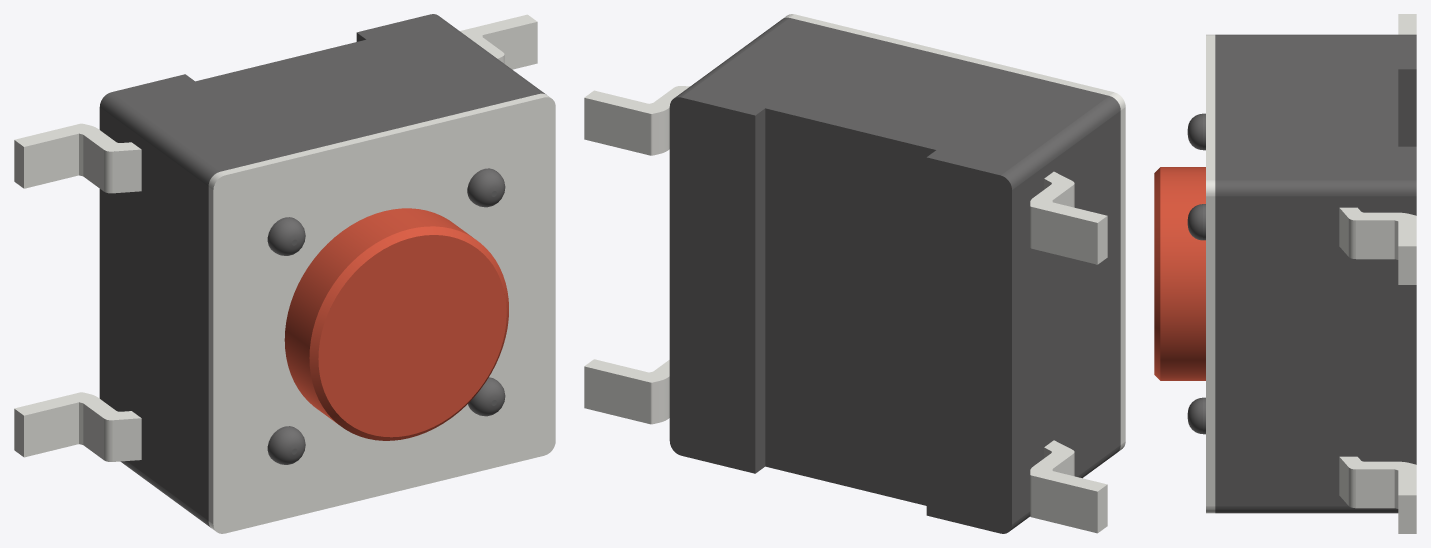
The model's file is SW_SPST_PTS645.glb.
3 renders of one model, left to right at view 1: azimuth 30°, elevation 25°; view 2: azimuth 150°, elevation 25°; view 3: azimuth 270°, elevation 25°, orthographic. The views are drawn at different scales.
Parts seen in each view (by area): view 1: Shape_IndexedFaceSet.004, Shape_IndexedFaceSet.023, Shape_IndexedFaceSet.001, Shape_IndexedFaceSet.049, Shape_IndexedFaceSet.018, Shape_IndexedFaceSet.028, Shape_IndexedFaceSet.006, Shape_IndexedFaceSet.089, Shape_IndexedFaceSet.078, Shape_IndexedFaceSet.013, Shape_IndexedFaceSet, Shape_IndexedFaceSet.057 (+11 smaller); view 2: Shape_IndexedFaceSet.011, Shape_IndexedFaceSet.001, Shape_IndexedFaceSet.007, Shape_IndexedFaceSet.008, Shape_IndexedFaceSet.023, Shape_IndexedFaceSet.009, Shape_IndexedFaceSet.091, Shape_IndexedFaceSet.059, Shape_IndexedFaceSet.069, Shape_IndexedFaceSet.080, Shape_IndexedFaceSet.006, Shape_IndexedFaceSet.013 (+5 smaller); view 3: Shape_IndexedFaceSet.022, Shape_IndexedFaceSet.001, Shape_IndexedFaceSet.018, Shape_IndexedFaceSet.005, Shape_IndexedFaceSet.012, Shape_IndexedFaceSet.054, Shape_IndexedFaceSet.064, Shape_IndexedFaceSet.010, Shape_IndexedFaceSet, Shape_IndexedFaceSet.028, Shape_IndexedFaceSet.024, Shape_IndexedFaceSet.035 (+10 smaller).
Boxes of the visible parts, box(x1,y1,x2,y2) form: Shape_IndexedFaceSet.004: box(213, 97, 555, 533); Shape_IndexedFaceSet.023: box(99, 107, 208, 520); Shape_IndexedFaceSet.001: box(111, 14, 538, 171); Shape_IndexedFaceSet.049: box(318, 235, 506, 437); Shape_IndexedFaceSet.018: box(284, 208, 472, 423); Shape_IndexedFaceSet.028: box(309, 226, 508, 440); Shape_IndexedFaceSet.006: box(100, 92, 219, 186); Shape_IndexedFaceSet.089: box(24, 402, 78, 457); Shape_IndexedFaceSet.078: box(24, 133, 78, 188); Shape_IndexedFaceSet.013: box(208, 187, 213, 523); Shape_IndexedFaceSet: box(220, 94, 543, 175); Shape_IndexedFaceSet.057: box(482, 22, 537, 69); Shape_IndexedFaceSet.011: box(765, 108, 935, 505); Shape_IndexedFaceSet.001: box(681, 18, 1108, 175); Shape_IndexedFaceSet.007: box(669, 97, 755, 473); Shape_IndexedFaceSet.008: box(926, 157, 1011, 533); Shape_IndexedFaceSet.023: box(1012, 111, 1120, 524); Shape_IndexedFaceSet.009: box(755, 108, 765, 473); Shape_IndexedFaceSet.091: box(1031, 475, 1097, 533); Shape_IndexedFaceSet.059: box(584, 98, 650, 155); Shape_IndexedFaceSet.069: box(584, 366, 650, 424); Shape_IndexedFaceSet.080: box(1031, 207, 1097, 264); Shape_IndexedFaceSet.006: box(1001, 96, 1120, 189); Shape_IndexedFaceSet.013: box(1120, 107, 1125, 444); Shape_IndexedFaceSet.022: box(1215, 196, 1416, 506); Shape_IndexedFaceSet.001: box(1215, 35, 1416, 180); Shape_IndexedFaceSet.018: box(1160, 167, 1205, 380); Shape_IndexedFaceSet.005: box(1215, 180, 1416, 196); Shape_IndexedFaceSet.012: box(1206, 196, 1215, 506); Shape_IndexedFaceSet.054: box(1356, 220, 1394, 259); Shape_IndexedFaceSet.064: box(1356, 469, 1394, 508); Shape_IndexedFaceSet.010: box(1398, 69, 1416, 146); Shape_IndexedFaceSet: box(1206, 35, 1215, 180); Shape_IndexedFaceSet.028: box(1154, 167, 1160, 380); Shape_IndexedFaceSet.024: box(1215, 506, 1398, 513); Shape_IndexedFaceSet.035: box(1340, 207, 1416, 246).
Size of the model in its own units: 3.54 by 2.36 by 1.69.
